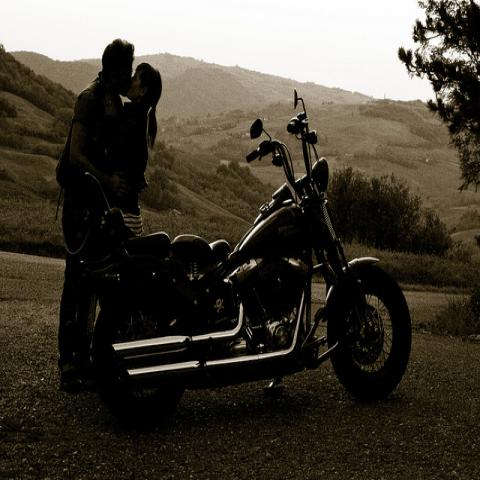motorcycle: (91, 96, 413, 433)
